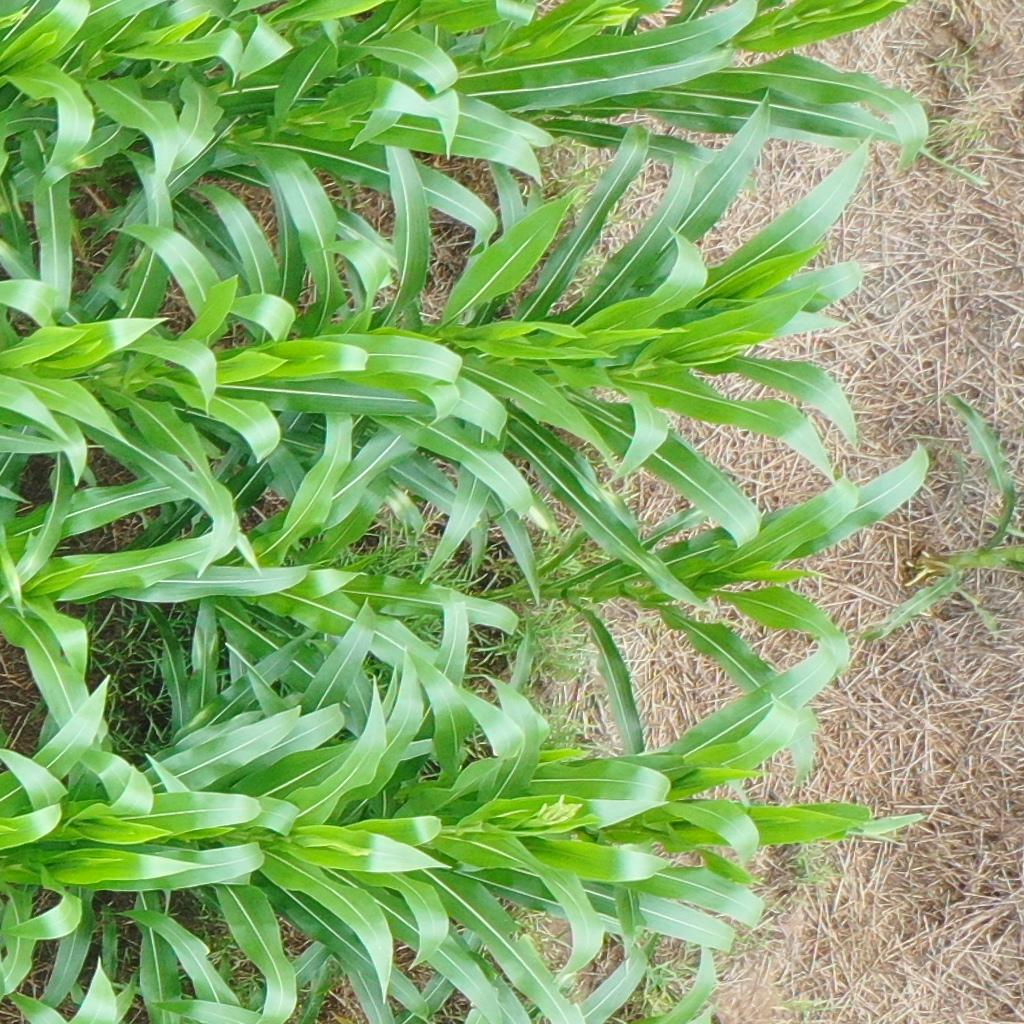Tassel: (534, 793, 585, 827)
